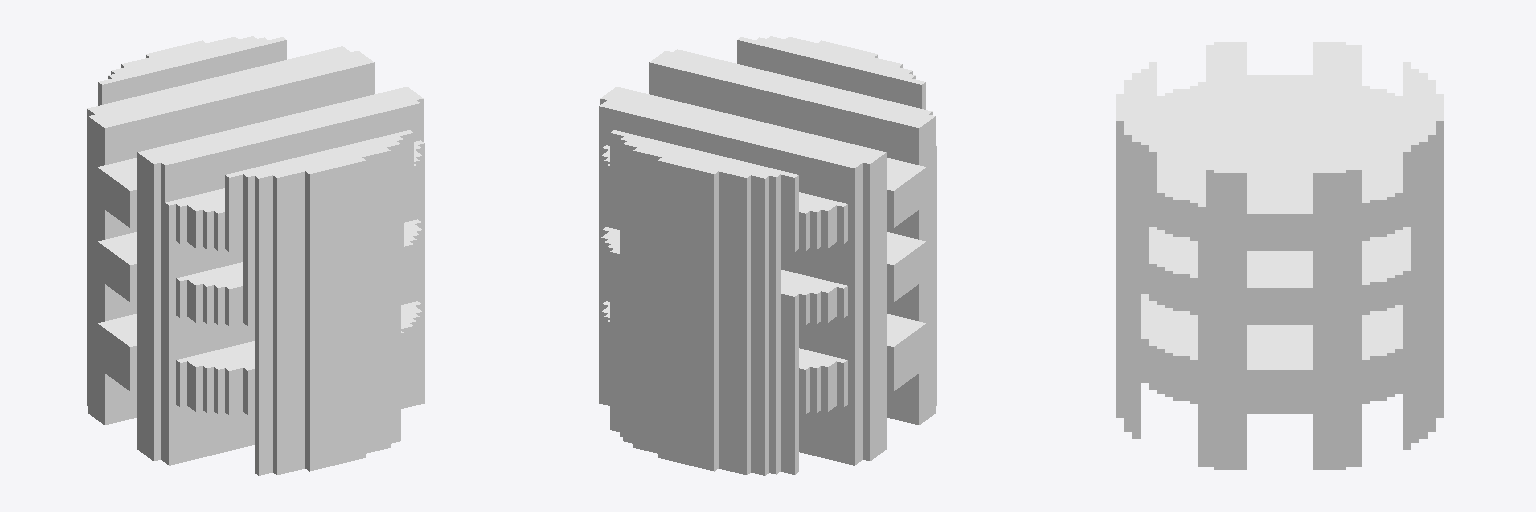
File: coliseu.obj
The picture shows the model from 3 angles: view 1: azimuth 30°, elevation 25°; view 2: azimuth 150°, elevation 25°; view 3: azimuth 270°, elevation 25°; orthographic projection.
Size of the model in its own units: 40 by 40 by 40.